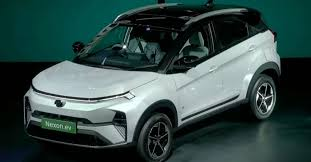Tata Nexon: (22, 1, 284, 162)
